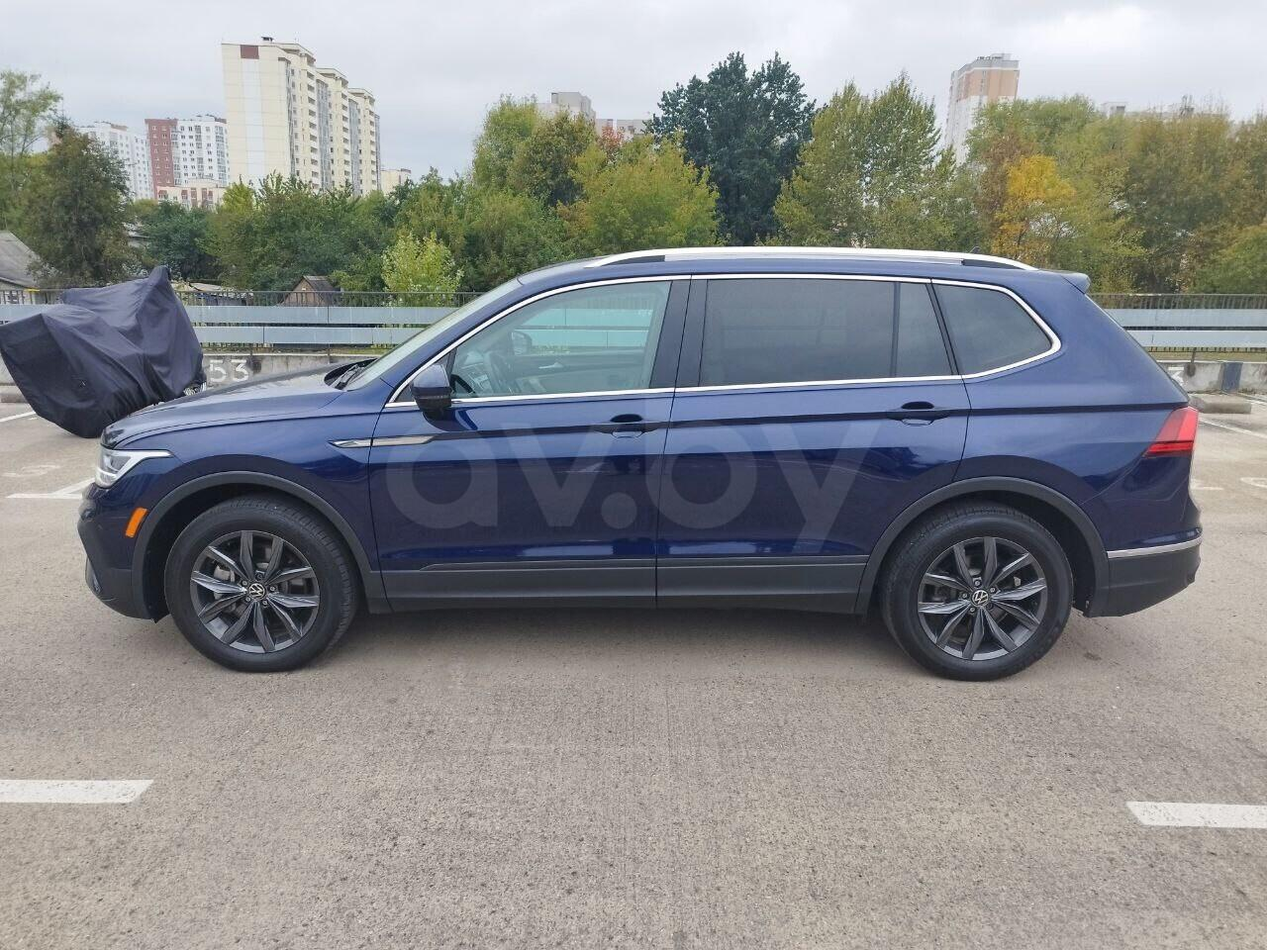Tiguan_2020-2024: (78, 239, 1204, 682)
